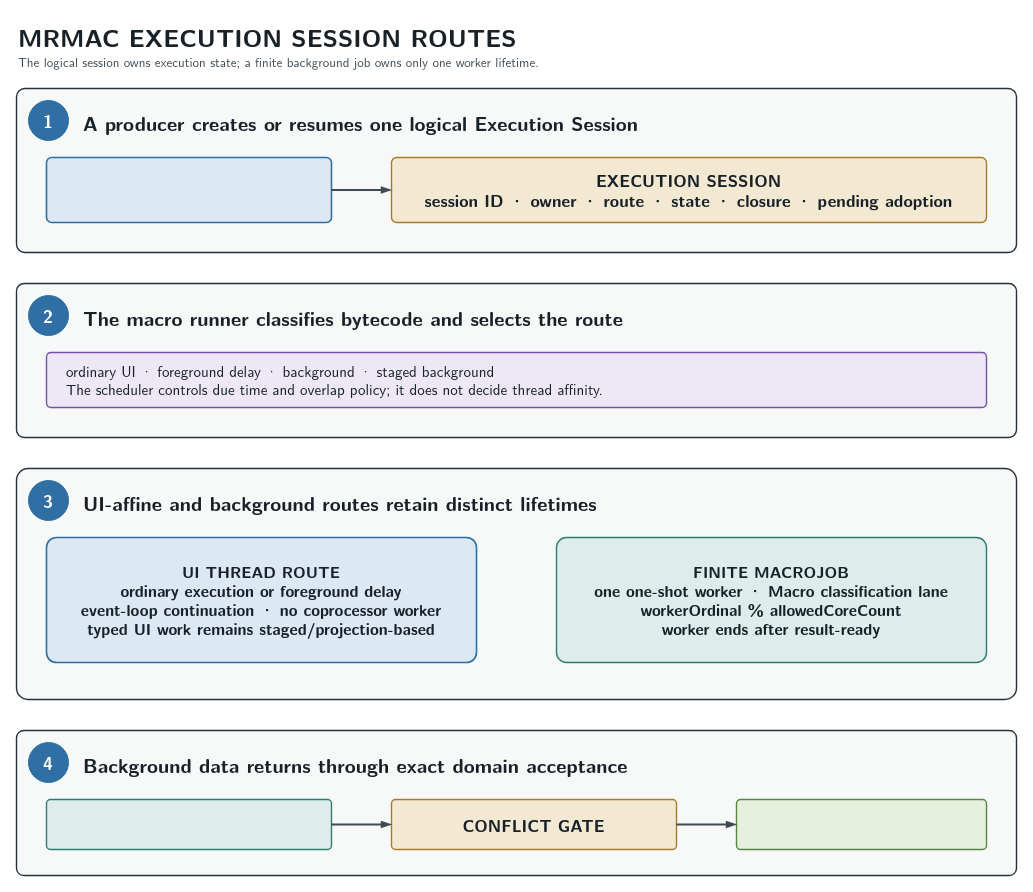
Some shapes in this 1033 by 892 pixel diagram are drawn without their labels. Each missing label, with the centre of its shape:
"PRODUCERS keymap · timer · MMP callback" belongs at point 188,189.
"RESULT MAILBOX" belongs at point 188,824.
"SESSION RESUMES" belongs at point 861,824.
